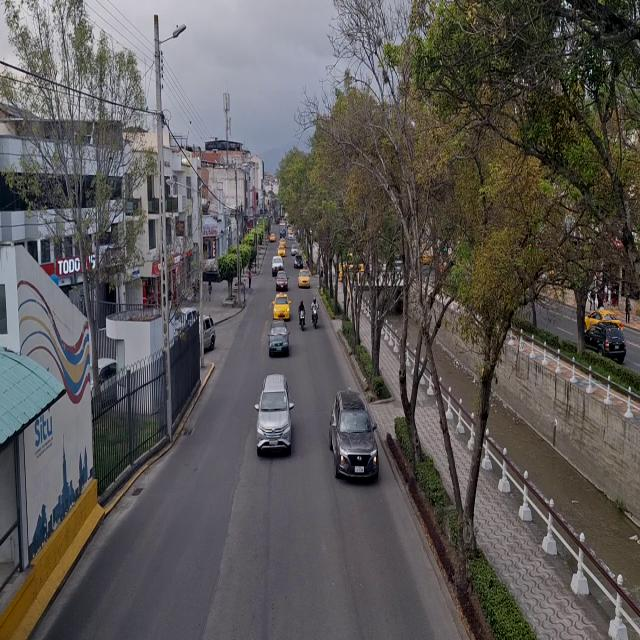MOTORCYCLE: (311, 308, 319, 330), (299, 310, 306, 332)
SED: (269, 322, 289, 356)
SUV: (333, 394, 377, 478), (259, 376, 290, 453), (584, 323, 626, 363)
